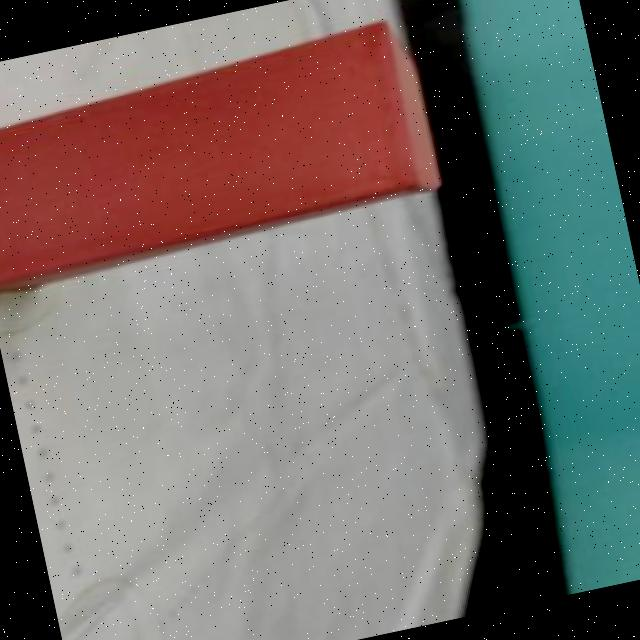redbox: (0, 14, 443, 297)
